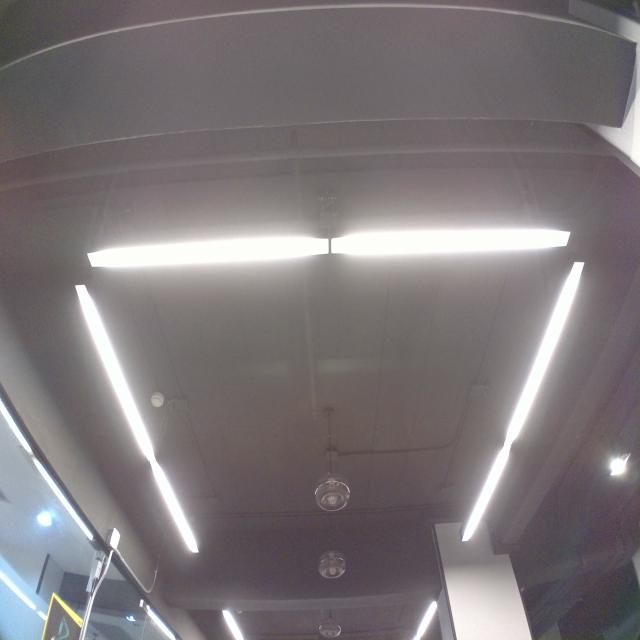lamp2_on: (452, 256, 598, 555), (67, 281, 206, 561), (83, 221, 583, 275)
